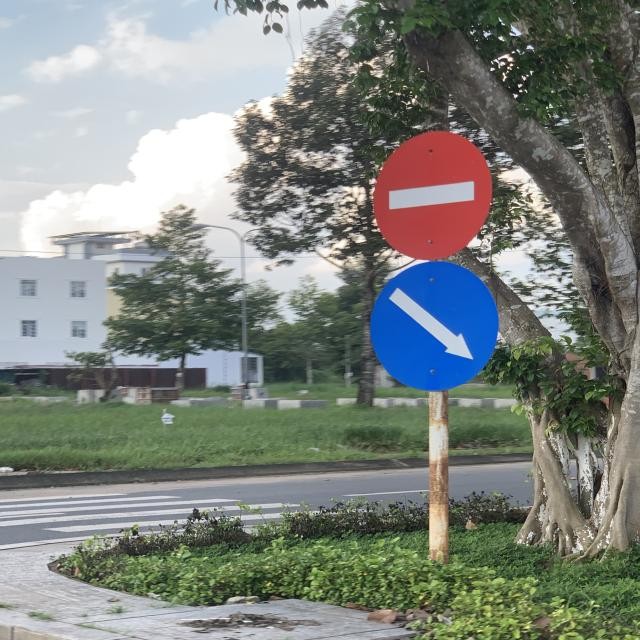Cam_Di_Nguoc_Chieu: (373, 130, 493, 260)
Chi_Huong_Di_Phai: (371, 261, 501, 392)
